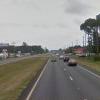Car: (56, 50, 85, 72)
